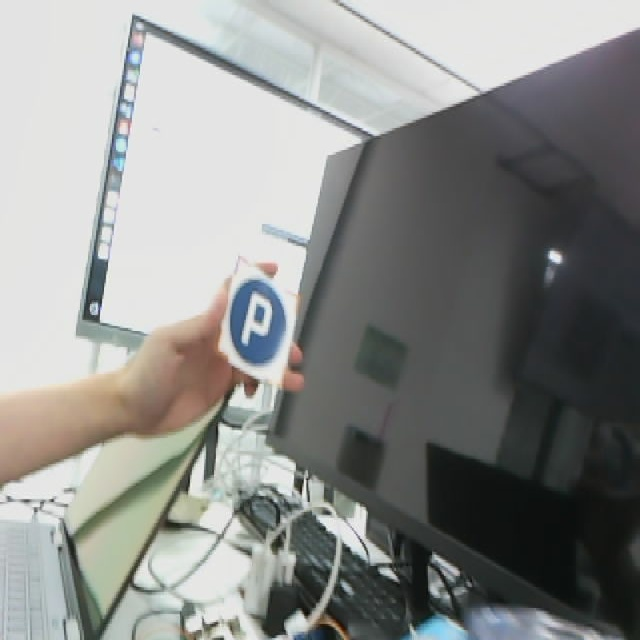parking: (214, 255, 300, 388)
